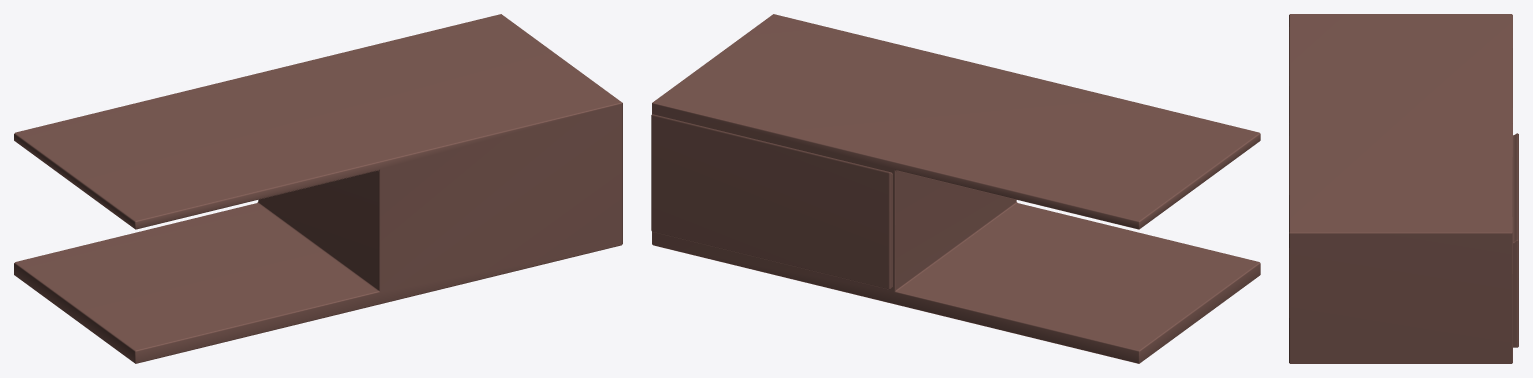
Rendered from NightTable.fbx.
The picture shows the model from 3 angles, left to right: view 1: azimuth 30°, elevation 25°; view 2: azimuth 150°, elevation 25°; view 3: azimuth 270°, elevation 25°; orthographic projection. The views are drawn at different scales.
Parts seen in each view (by area): view 1: NightTable; view 2: NightTable; view 3: NightTable.
Part boxes in pixels (box(x1,y1,x2,y2)): NightTable: box(14, 14, 622, 363); NightTable: box(651, 14, 1260, 363); NightTable: box(1289, 14, 1518, 363).
Bounding box in the file's own units: 1.37 × 0.3847 × 0.6083.
